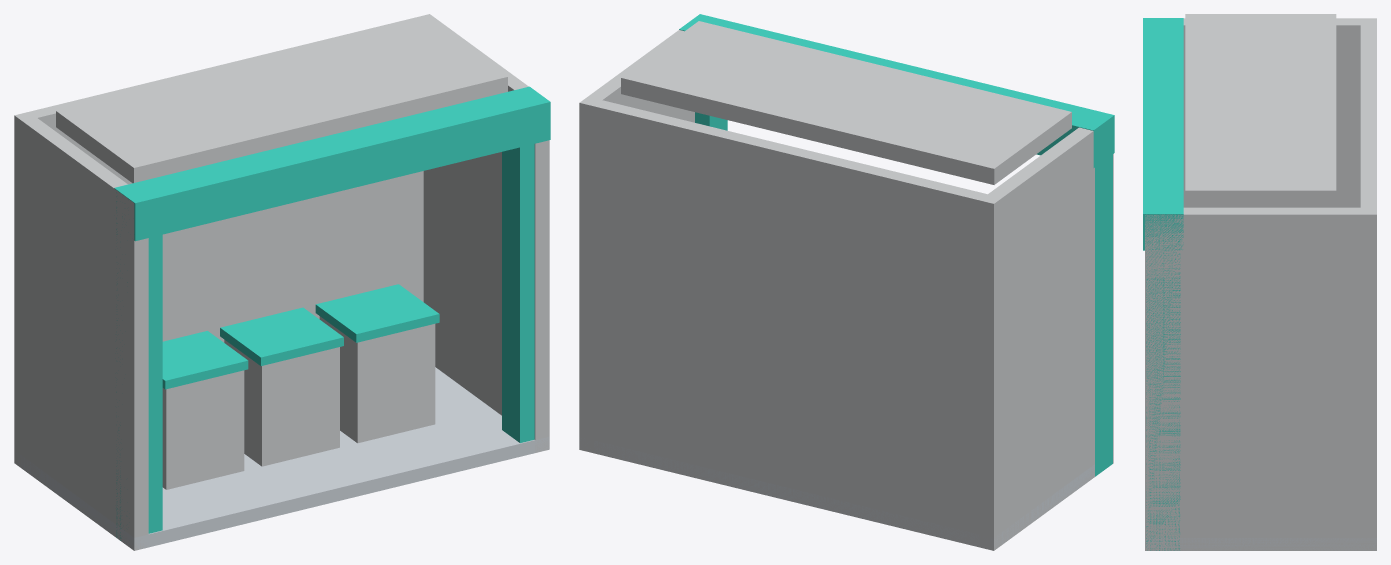
3 renders of one model, left to right at view 1: azimuth 30°, elevation 25°; view 2: azimuth 150°, elevation 25°; view 3: azimuth 270°, elevation 25°, orthographic. The views are drawn at different scales.
Parts seen in each view (by area): view 1: Exhibition Booth Concept; view 2: Exhibition Booth Concept; view 3: Exhibition Booth Concept.
Boxes of the visible parts, left/top/right/bottom form: Exhibition Booth Concept: left=14, top=14, right=550, bottom=550; Exhibition Booth Concept: left=579, top=14, right=1114, bottom=550; Exhibition Booth Concept: left=1143, top=14, right=1376, bottom=550.
Bounding box in the file's own units: 4 × 3.34 × 2.01.
